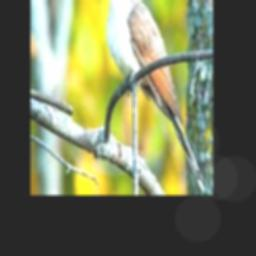Cuckoo: (105, 0, 206, 195)
